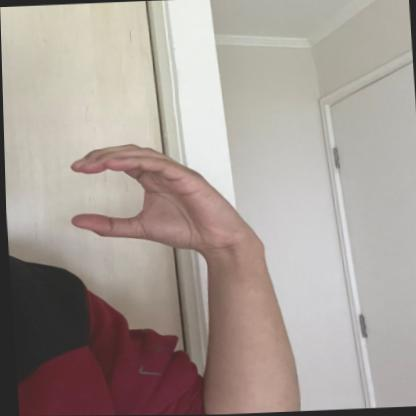C: (61, 137, 253, 263)
